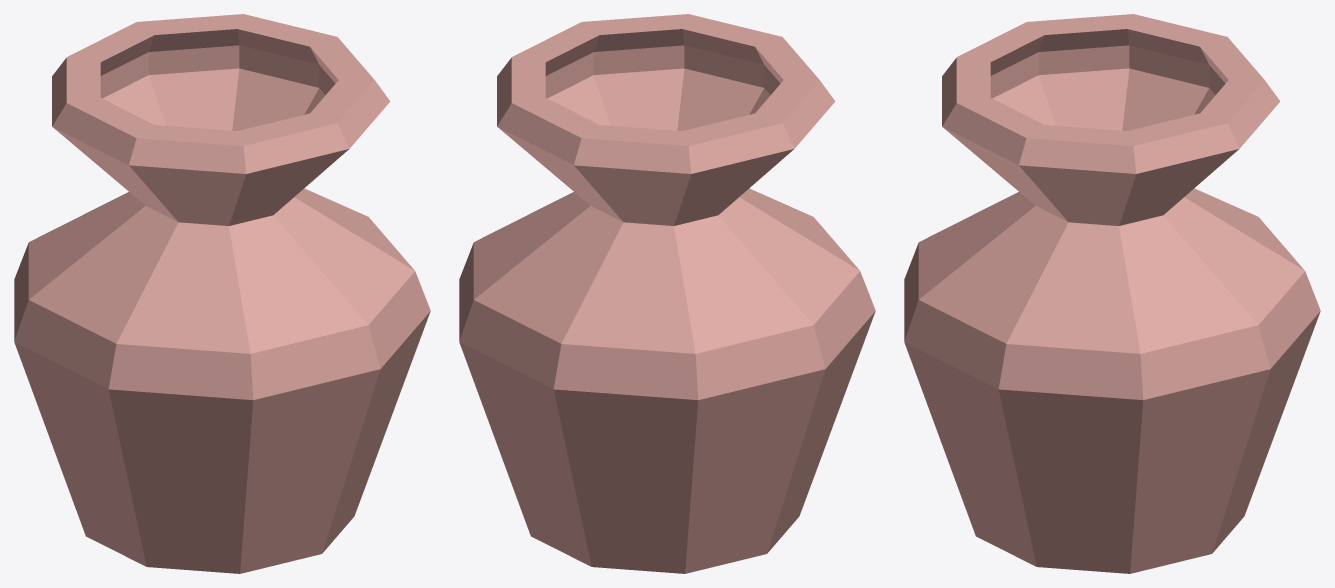
File: ENV_Vase01_Placeholder02.fbx
The picture shows the model from 3 angles, left to right: view 1: azimuth 30°, elevation 25°; view 2: azimuth 150°, elevation 25°; view 3: azimuth 270°, elevation 25°; orthographic projection.
Parts seen in each view (by area): view 1: Circle.007; view 2: Circle.007; view 3: Circle.007.
Part boxes in pixels (box(x1,y1,x2,y2)): Circle.007: box(14, 14, 430, 573); Circle.007: box(459, 14, 875, 573); Circle.007: box(904, 14, 1320, 573).
Bounding box in the file's own units: 51.83 × 52.63 × 59.89.
